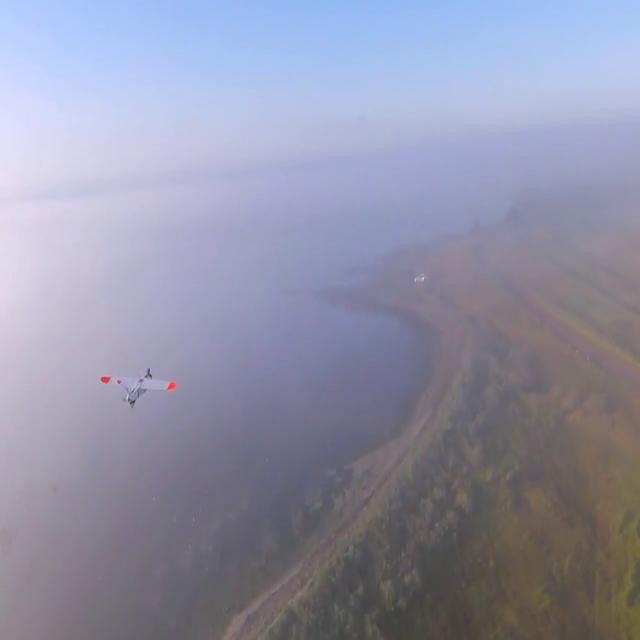iha: (125, 367, 139, 412)
